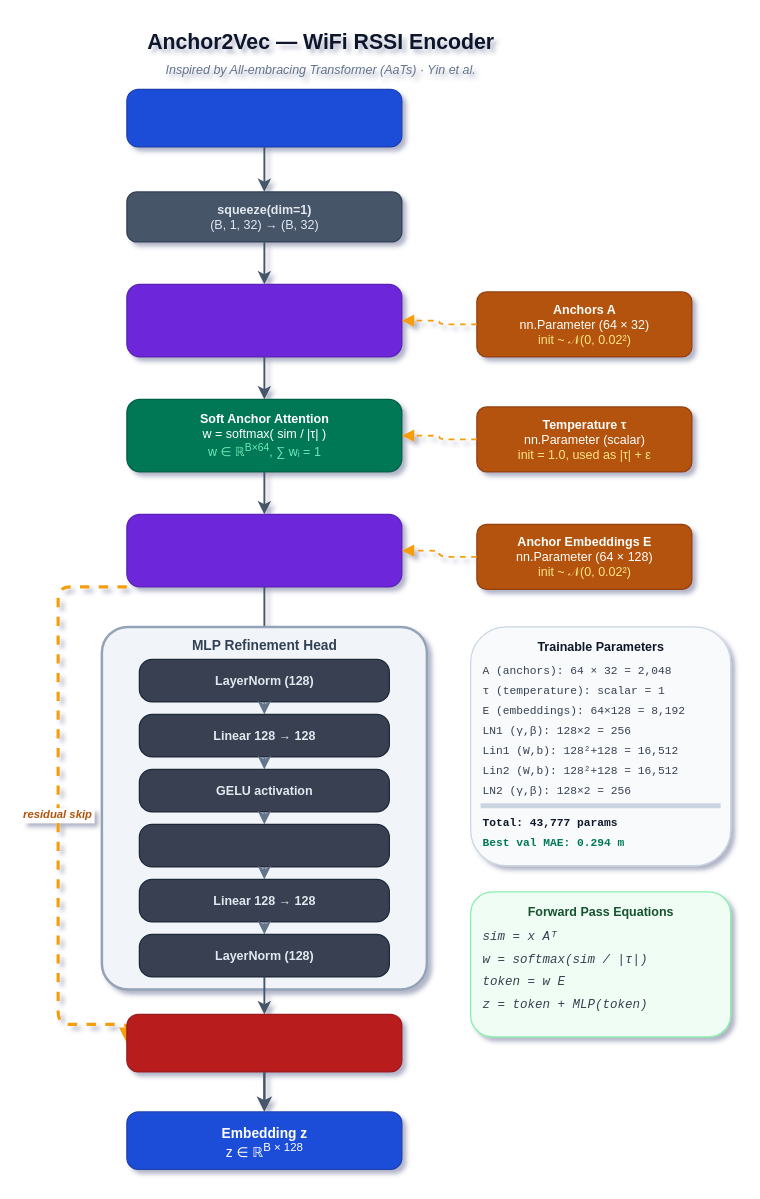
Image size: 760x1199. Some labels were removed from this diagram. Here are the shapes that lost their labels. From the top down, the box of each, then its label:
(126, 88, 402, 147): WiFi RSSI Scan x ∈ ℝ B × 1 × 32
(126, 283, 402, 357): Anchor Similarity sim = F.linear(x, A) = x · Aᵀ (B, 32) × (32, 64) → (B, 64)
(126, 513, 402, 587): Anchor Aggregation token = w · E (matmul) (B, 64) × (64, 128) → (B, 128)
(138, 823, 389, 867): Dropout (p = 0.1)
(126, 1013, 402, 1072): ⊕ Residual Add z = token + head(token)
